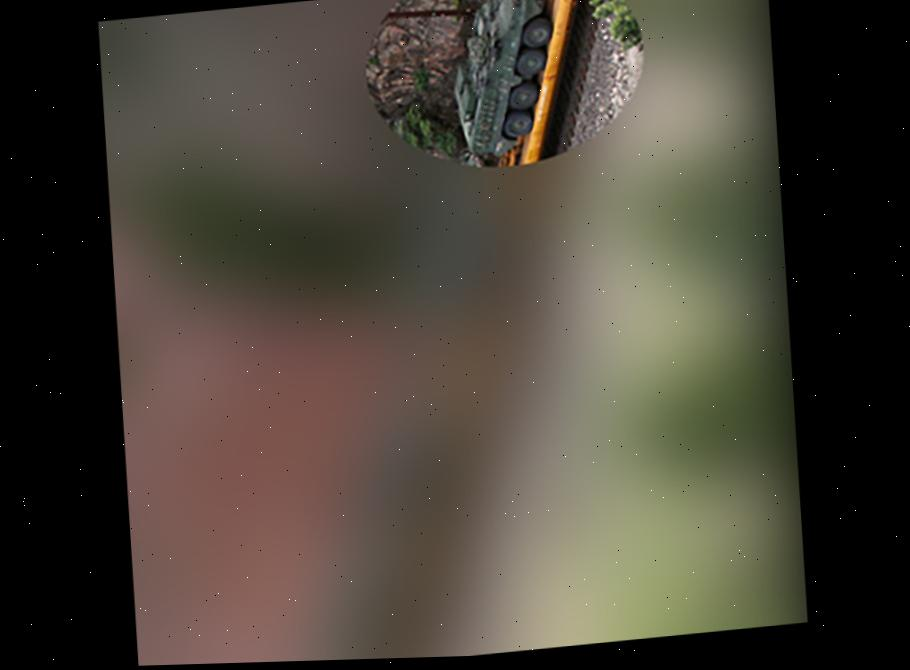armored_car: (442, 0, 561, 167)
